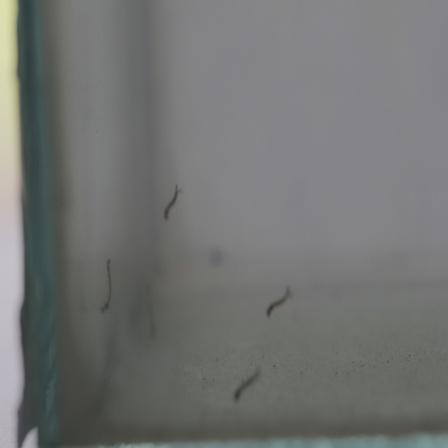Jentik-Nyamuk: (93, 253, 115, 319), (156, 181, 187, 224), (232, 361, 263, 404), (264, 283, 293, 319)
